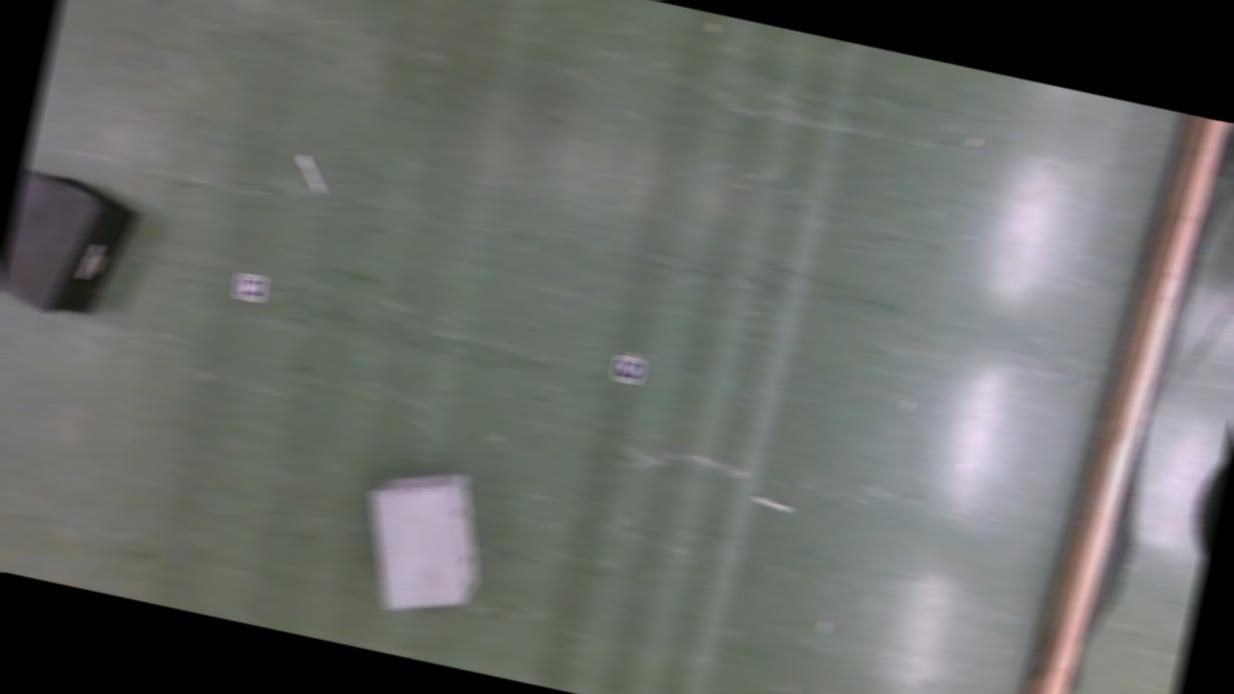probes: (291, 154, 329, 194), (750, 495, 792, 513)
rako: (346, 455, 499, 626), (0, 167, 143, 328)
